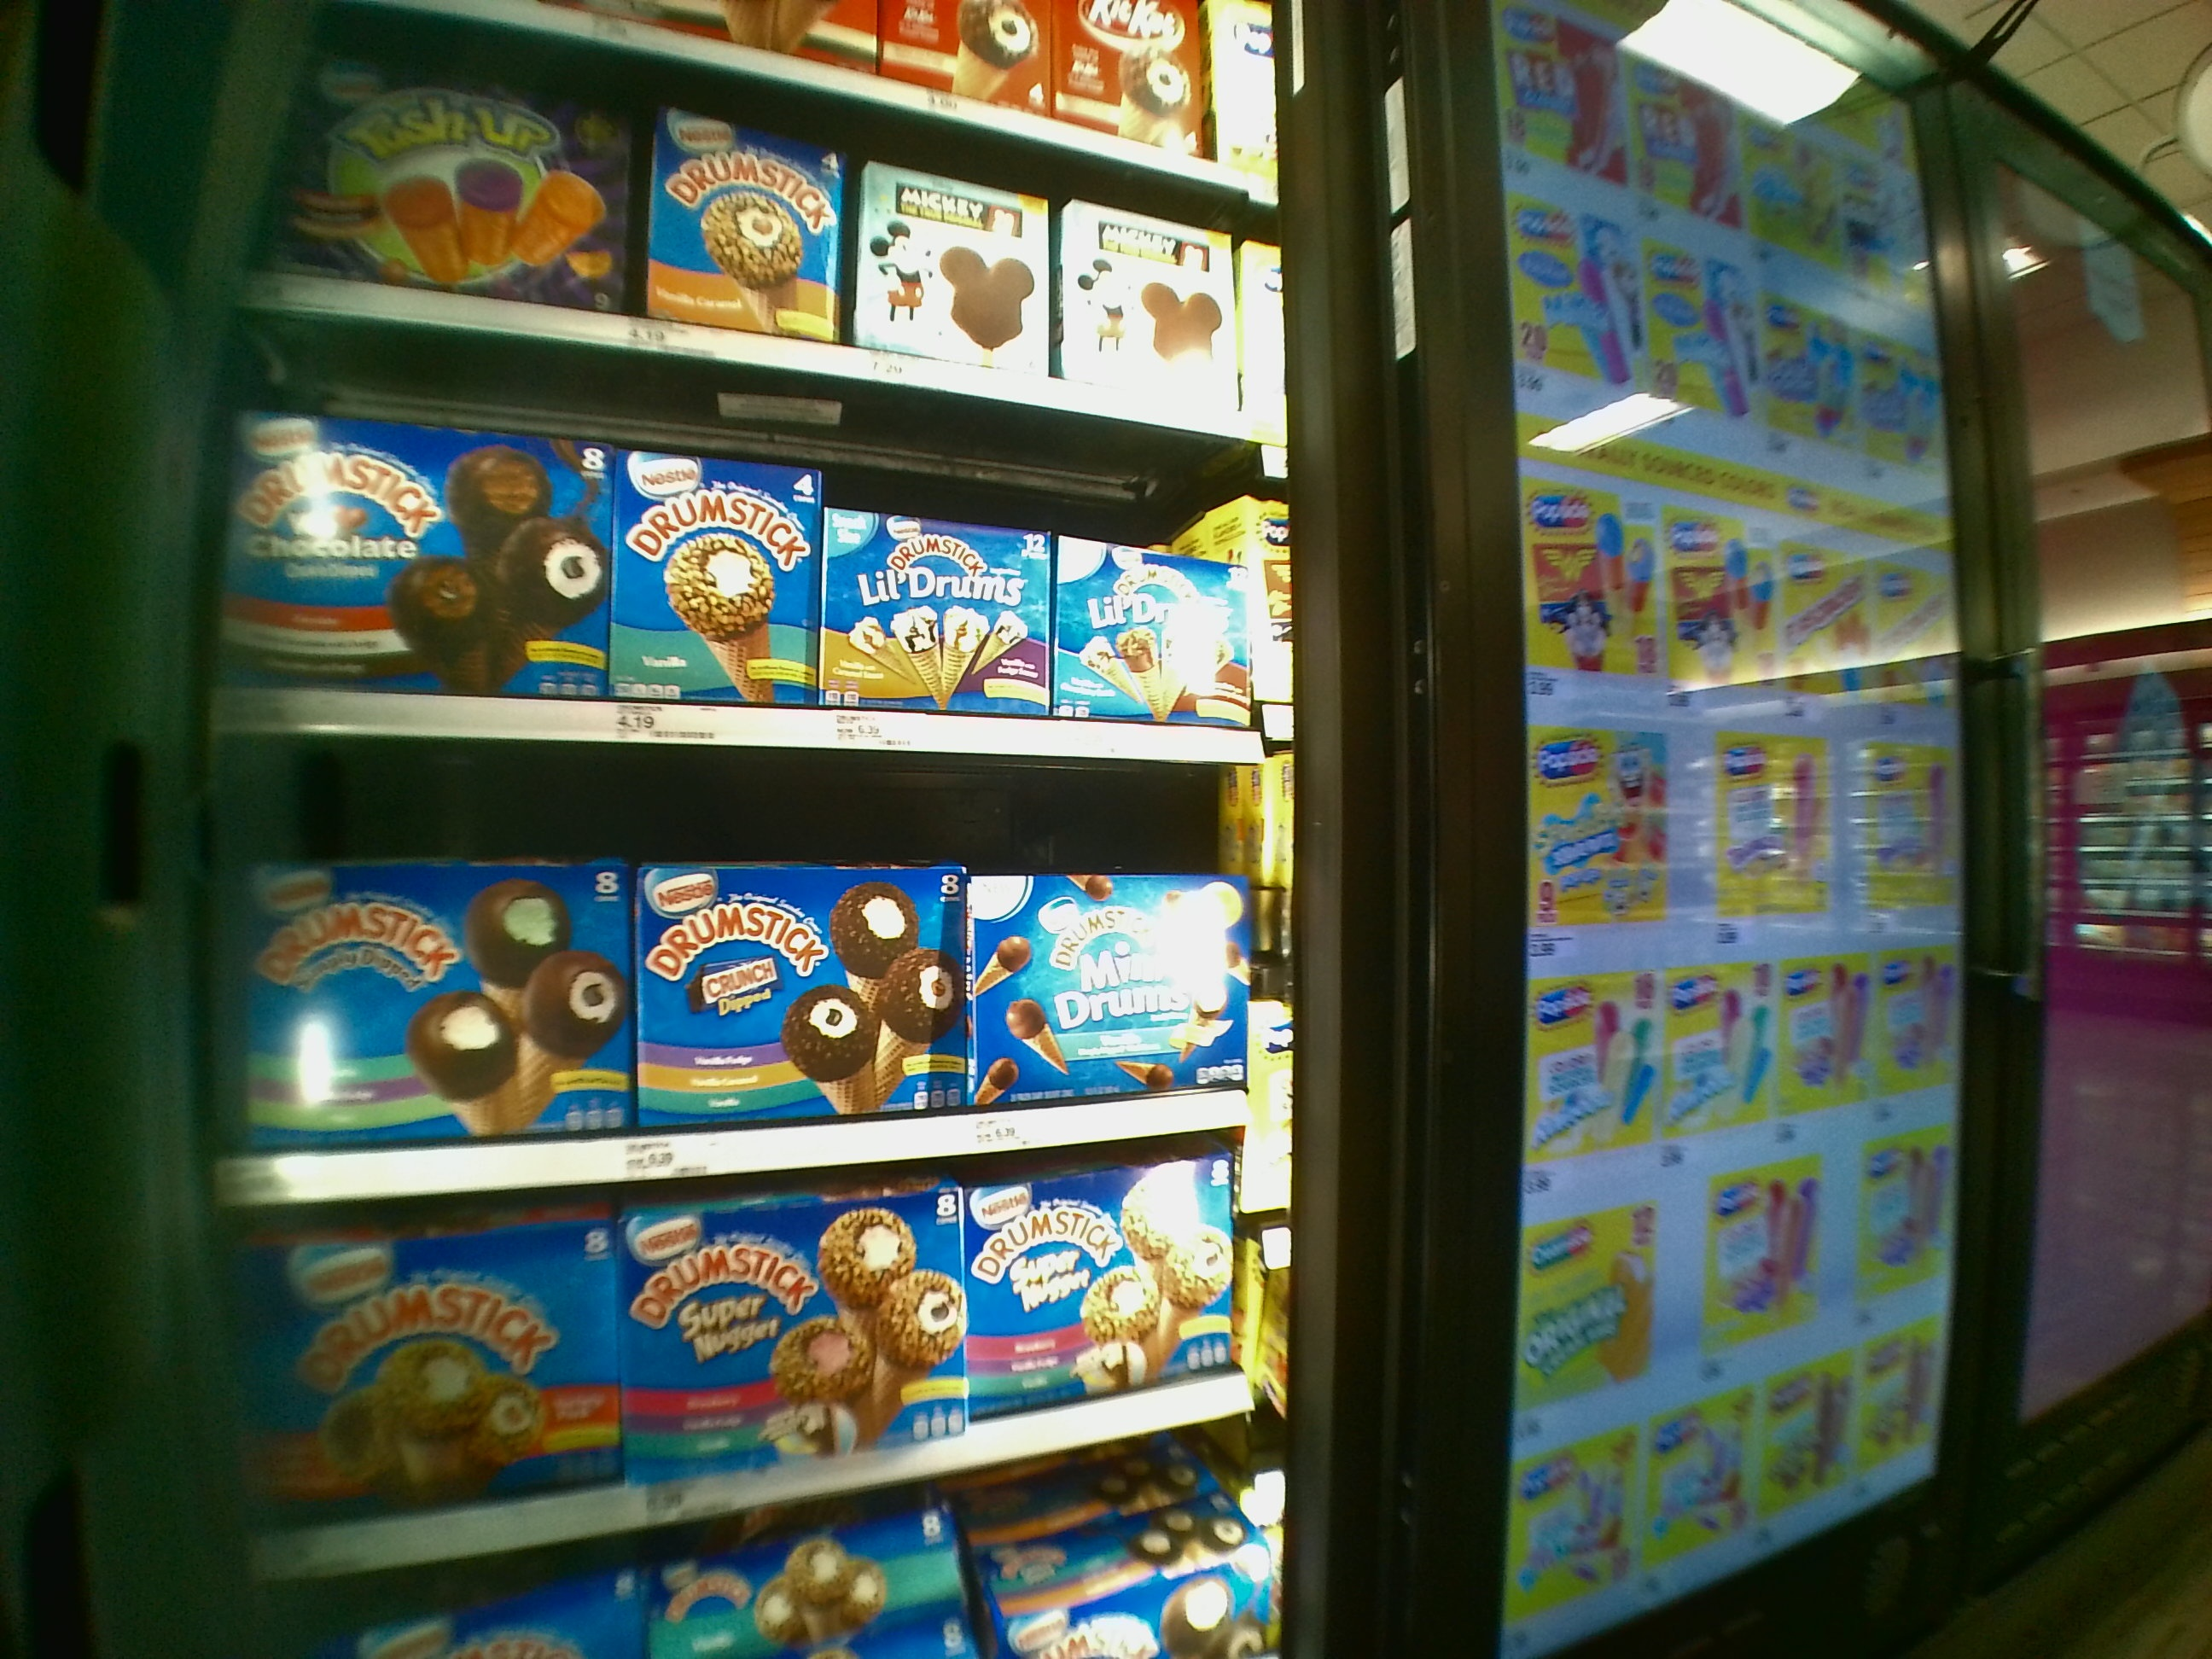shelf: (206, 765, 1308, 1204), (244, 1162, 1310, 1546), (209, 408, 1282, 755)
